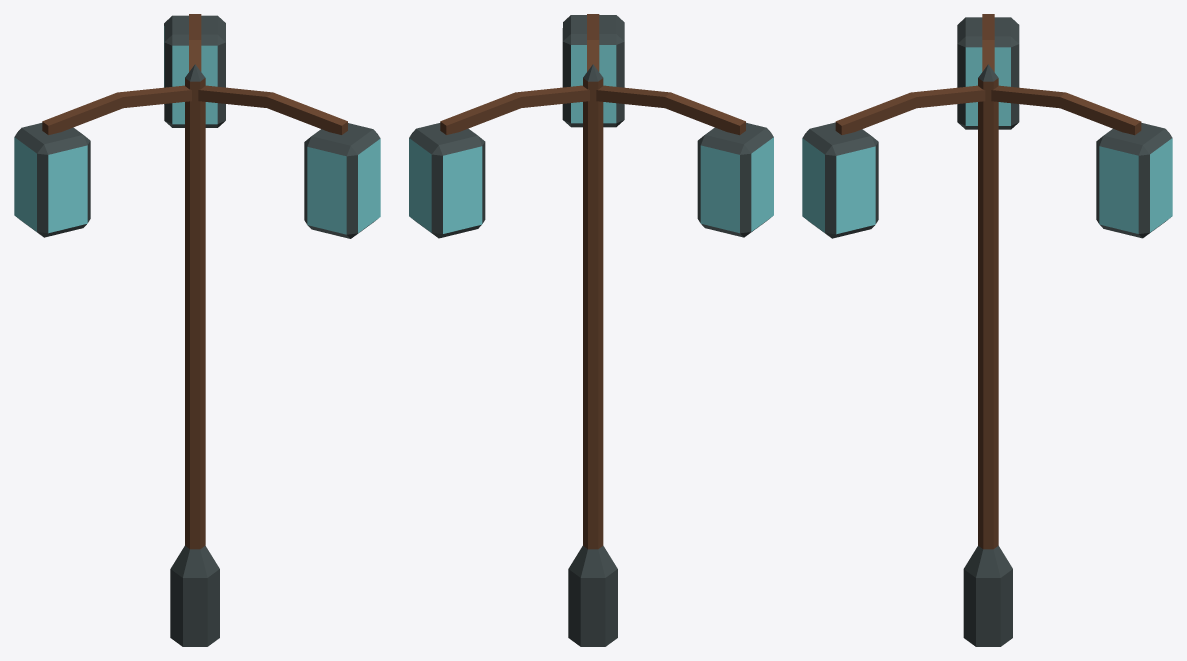
The model's file is Lamp_7_Blue.fbx.
The picture shows the model from 3 angles, left to right: view 1: azimuth 30°, elevation 25°; view 2: azimuth 150°, elevation 25°; view 3: azimuth 270°, elevation 25°; orthographic projection.
Visible parts, largest first — view 1: Lamp_7_Blue; view 2: Lamp_7_Blue; view 3: Lamp_7_Blue.
Boxes of the visible parts, x1,y1,x2,y2 form: Lamp_7_Blue: (14, 14, 380, 646); Lamp_7_Blue: (409, 14, 773, 646); Lamp_7_Blue: (802, 14, 1172, 646).
Bounding box in the file's own units: 155 × 307 × 180.
